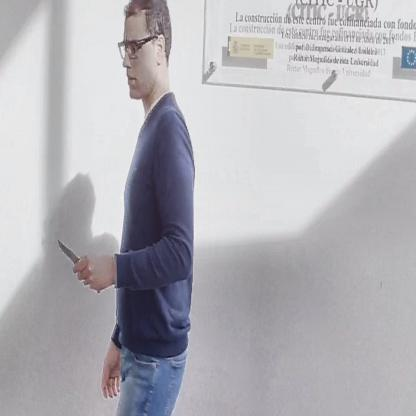knife: (54, 234, 102, 297)
